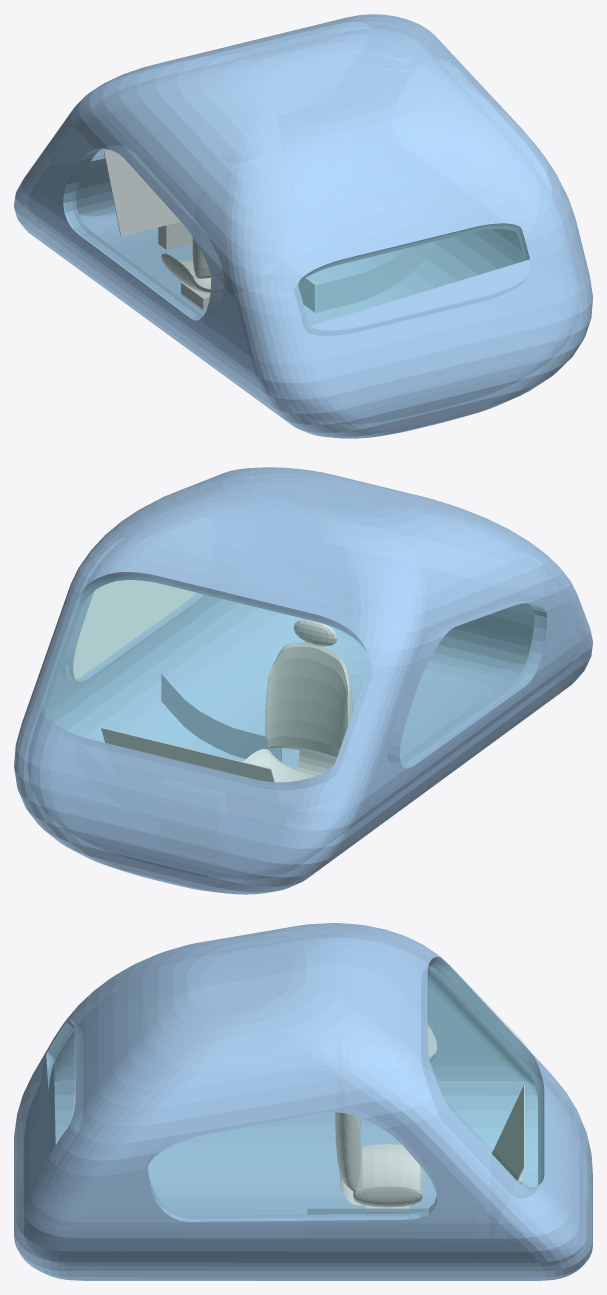
Rendered from капсула8.fbx.
3 views of the same model, one above another, from view 1: azimuth 30°, elevation 25°; view 2: azimuth 150°, elevation 25°; view 3: azimuth 270°, elevation 25° (orthographic). The views are drawn at different scales.
Visible parts, largest first — view 1: Circle, Cube.004, Cube.007, Cube.003, Circle.003, Circle.001, Cube.002; view 2: Circle, Cube.006, Cube.004, Circle.002, Cube.005, Circle.003, Cube.003, Circle.001, Cube.001, Plane; view 3: Circle, Cube.005, Cube.006, Circle.001, Cube.007, Circle.002, Cube.003, Circle.004.
Part boxes in pixels (bbox=[...]): Circle: bbox=[14, 14, 592, 438]; Cube.004: bbox=[65, 149, 210, 319]; Cube.007: bbox=[298, 224, 528, 325]; Cube.003: bbox=[103, 149, 180, 236]; Circle.003: bbox=[315, 241, 436, 312]; Circle.001: bbox=[161, 253, 210, 292]; Cube.002: bbox=[158, 222, 192, 249]; Circle: bbox=[14, 467, 592, 894]; Cube.006: bbox=[40, 576, 368, 781]; Cube.004: bbox=[400, 603, 544, 767]; Circle.002: bbox=[265, 642, 353, 759]; Cube.005: bbox=[73, 580, 195, 678]; Circle.003: bbox=[161, 674, 281, 761]; Cube.003: bbox=[101, 727, 274, 781]; Circle.001: bbox=[243, 749, 315, 782]; Cube.001: bbox=[293, 619, 337, 646]; Plane: bbox=[297, 750, 336, 775]; Circle: bbox=[14, 923, 592, 1280]; Cube.005: bbox=[148, 1112, 436, 1218]; Cube.006: bbox=[428, 961, 542, 1188]; Circle.001: bbox=[353, 1144, 422, 1207]; Cube.007: bbox=[47, 1021, 75, 1150]; Circle.002: bbox=[335, 1112, 361, 1190]; Cube.003: bbox=[492, 1085, 524, 1181]; Circle.004: bbox=[307, 1208, 427, 1214].
Size of the model in its own units: 400 by 315 by 601.
